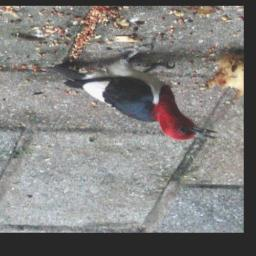Woodpecker: (42, 39, 224, 146)
